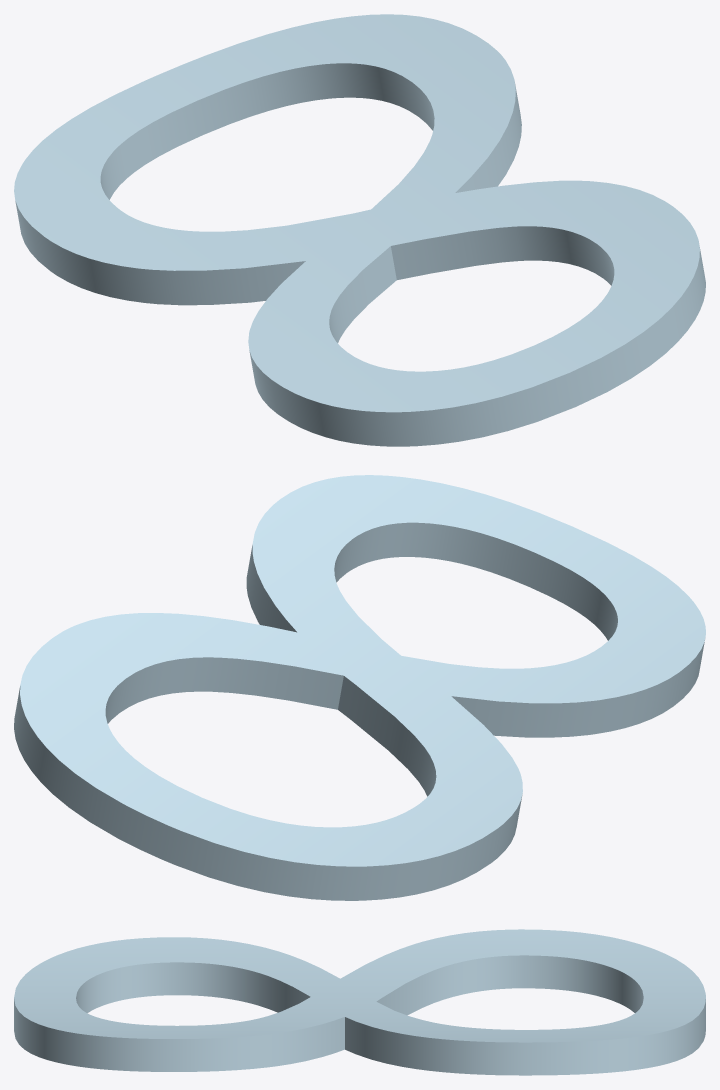
File: Number_8.gltf
The picture shows the model from 3 angles, top to bottom: view 1: azimuth 30°, elevation 25°; view 2: azimuth 150°, elevation 25°; view 3: azimuth 270°, elevation 25°; orthographic projection. The views are drawn at different scales.
Parts seen in each view (by area): view 1: Sub_5_Cell_1_1_Number_8; view 2: Sub_5_Cell_1_1_Number_8; view 3: Sub_5_Cell_1_1_Number_8.
Boxes of the visible parts, bbox=[...] form: Sub_5_Cell_1_1_Number_8: bbox=[14, 14, 705, 446]; Sub_5_Cell_1_1_Number_8: bbox=[14, 475, 705, 900]; Sub_5_Cell_1_1_Number_8: bbox=[14, 929, 705, 1075].
Size of the model in its own units: 0.0165 by 0.00419 by 0.0259.
